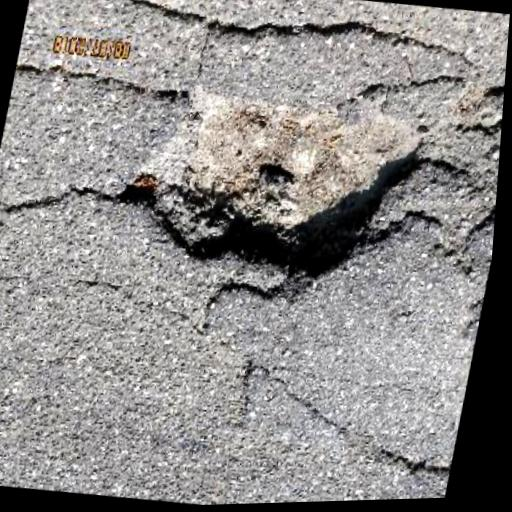pothole: (99, 73, 440, 307)
